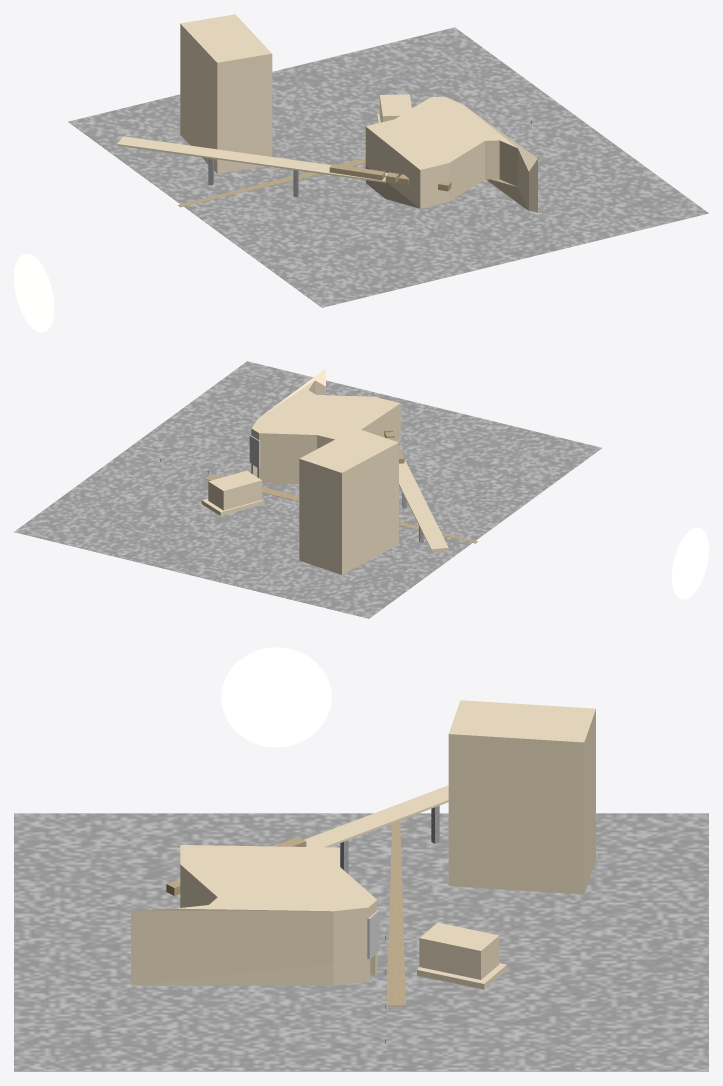
3 renders of one model, top to bottom at view 1: azimuth 30°, elevation 25°; view 2: azimuth 150°, elevation 25°; view 3: azimuth 270°, elevation 25°, orthographic. The views are drawn at different scales.
Parts seen in each view (by area): view 1: ground, Building.002, Cube, Railway.001, Circle, 立方體, Cube.001, the way; view 2: ground, Cube, Building.002, Circle, Cube.001, Railway.001, the way; view 3: ground, Building.002, Cube, Circle, Cube.001, the way, Railway.001.
Boxes of the visible parts, box(x1,y1,x2,y2) form: ground: box(68, 27, 708, 307); Building.002: box(365, 96, 537, 212); Cube: box(180, 14, 272, 173); Railway.001: box(117, 136, 387, 182); Circle: box(14, 253, 54, 332); 立方體: box(329, 164, 451, 191); Cube.001: box(377, 94, 411, 123); the way: box(178, 157, 365, 207); ground: box(14, 361, 601, 618); Cube: box(299, 428, 398, 574); Building.002: box(251, 368, 400, 484); Circle: box(672, 527, 708, 599); Cube.001: box(201, 470, 262, 515); Railway.001: box(399, 459, 448, 552); the way: box(205, 474, 477, 543); ground: box(14, 813, 708, 1071); Building.002: box(131, 845, 377, 985); Cube: box(448, 700, 595, 894); Circle: box(221, 647, 331, 747); Cube.001: box(417, 922, 506, 989); the way: box(386, 820, 405, 1006); Railway.001: box(304, 785, 448, 847).
Bounding box in the file's own units: 143 × 37.02 × 109.
4 materials, 2 textured.
